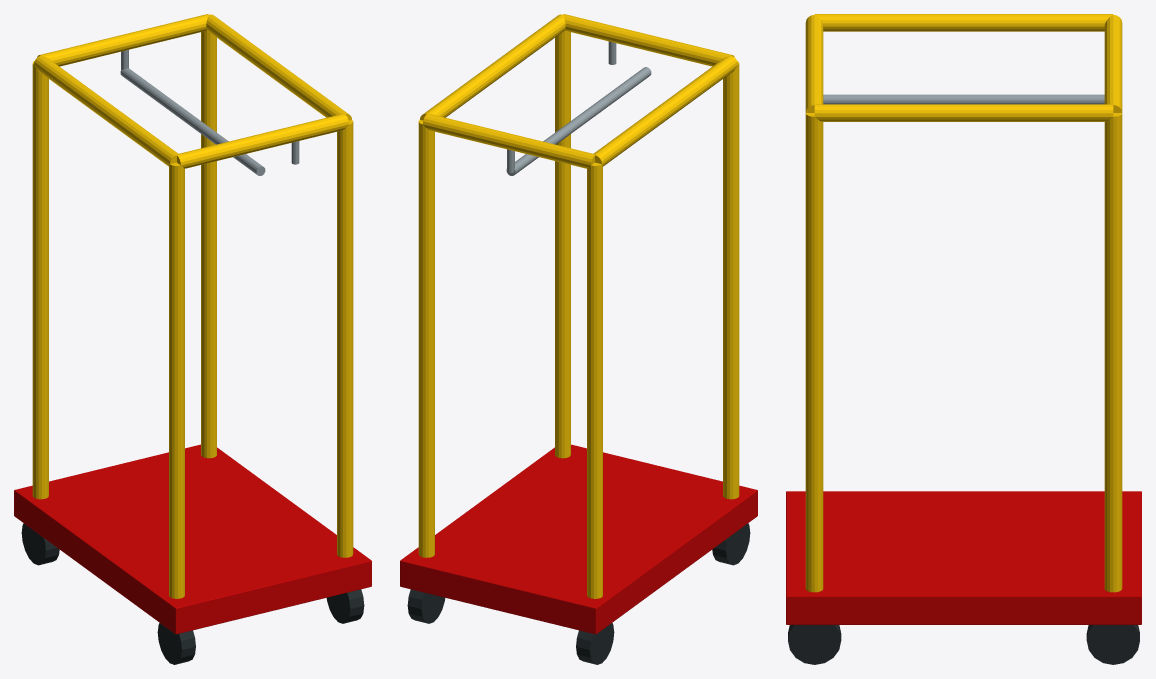
The model's file is source-edit.glb.
The picture shows the model from 3 angles, left to right: view 1: azimuth 30°, elevation 25°; view 2: azimuth 150°, elevation 25°; view 3: azimuth 270°, elevation 25°; orthographic projection. The views are drawn at different scales.
Parts seen in each view (by area): view 1: Carpet_Deck, Pillar.002, Pillar.001, Pillar, Pillar.003, Top_Cross_Rail, Top_Long_Rail, Top_Long_Rail.001, Top_Cross_Rail.001, Garment_Bar, Caster.001, Caster.003 (+1 smaller); view 2: Carpet_Deck, Pillar.003, Pillar, Pillar.001, Pillar.002, Top_Cross_Rail.001, Top_Long_Rail, Top_Long_Rail.001, Top_Cross_Rail, Garment_Bar, Caster.002, Caster (+1 smaller); view 3: Carpet_Deck, Pillar.002, Pillar.003, Top_Long_Rail.001, Top_Long_Rail, Garment_Bar, Caster, Caster.003, Top_Cross_Rail, Top_Cross_Rail.001.
Boxes of the visible parts, x1,y1,x2,y2 form: Carpet_Deck: (14, 444, 371, 634); Pillar.002: (337, 120, 353, 557); Pillar.001: (32, 61, 48, 499); Pillar: (169, 162, 184, 598); Pillar.003: (201, 30, 216, 458); Top_Cross_Rail: (177, 114, 348, 168); Top_Long_Rail: (34, 55, 178, 166); Top_Long_Rail.001: (206, 14, 351, 120); Top_Cross_Rail.001: (37, 14, 208, 66); Garment_Bar: (120, 68, 265, 175); Caster.001: (157, 623, 195, 664); Caster.003: (326, 589, 364, 623); Carpet_Deck: (400, 444, 757, 634); Pillar.003: (418, 120, 434, 557); Pillar: (723, 61, 739, 499); Pillar.001: (587, 162, 602, 598); Pillar.002: (555, 30, 570, 458); Top_Cross_Rail.001: (423, 114, 594, 168); Top_Long_Rail: (593, 55, 737, 166); Top_Long_Rail.001: (420, 14, 565, 120); Top_Cross_Rail: (563, 14, 734, 66); Garment_Bar: (506, 67, 651, 175); Caster.002: (576, 623, 614, 664); Caster: (407, 589, 445, 623); Carpet_Deck: (786, 491, 1141, 624); Pillar.002: (805, 113, 823, 592); Pillar.003: (1104, 113, 1122, 592); Top_Long_Rail.001: (814, 104, 1113, 121); Top_Long_Rail: (814, 14, 1113, 31); Garment_Bar: (823, 94, 1104, 104); Caster: (1086, 625, 1139, 664); Caster.003: (788, 625, 841, 664); Top_Cross_Rail: (805, 15, 823, 112); Top_Cross_Rail.001: (1104, 15, 1122, 112).
Size of the model in its own units: 0.7 by 1.73 by 1.
